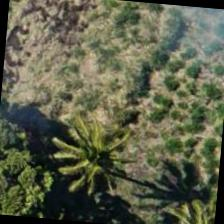Kelapa_Sawit: (43, 94, 142, 192)
